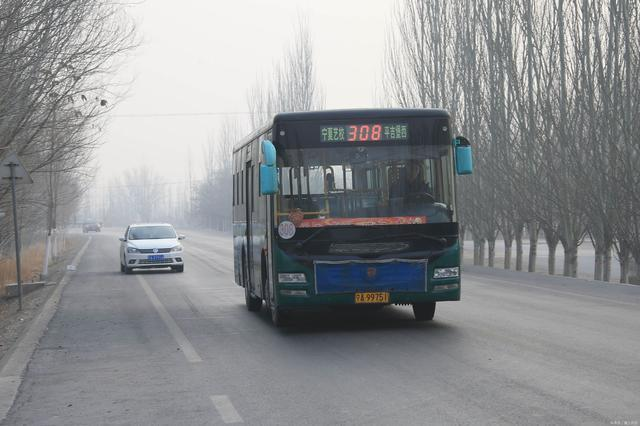bus: (229, 105, 474, 329)
car: (118, 222, 185, 272), (81, 218, 102, 232)
